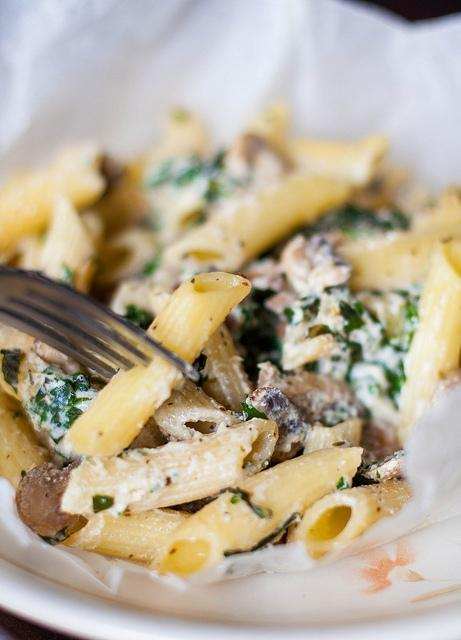mushroom: (258, 361, 364, 426), (16, 460, 90, 546), (282, 228, 352, 298), (246, 388, 310, 464), (222, 132, 304, 178), (360, 420, 405, 462)
